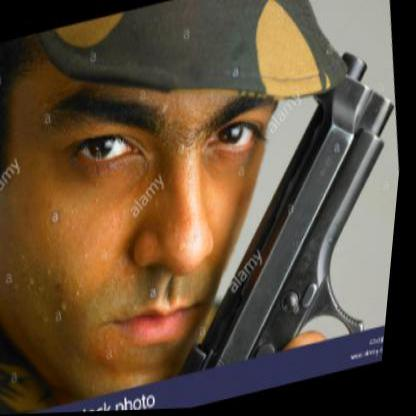pistol: (142, 45, 411, 377)
